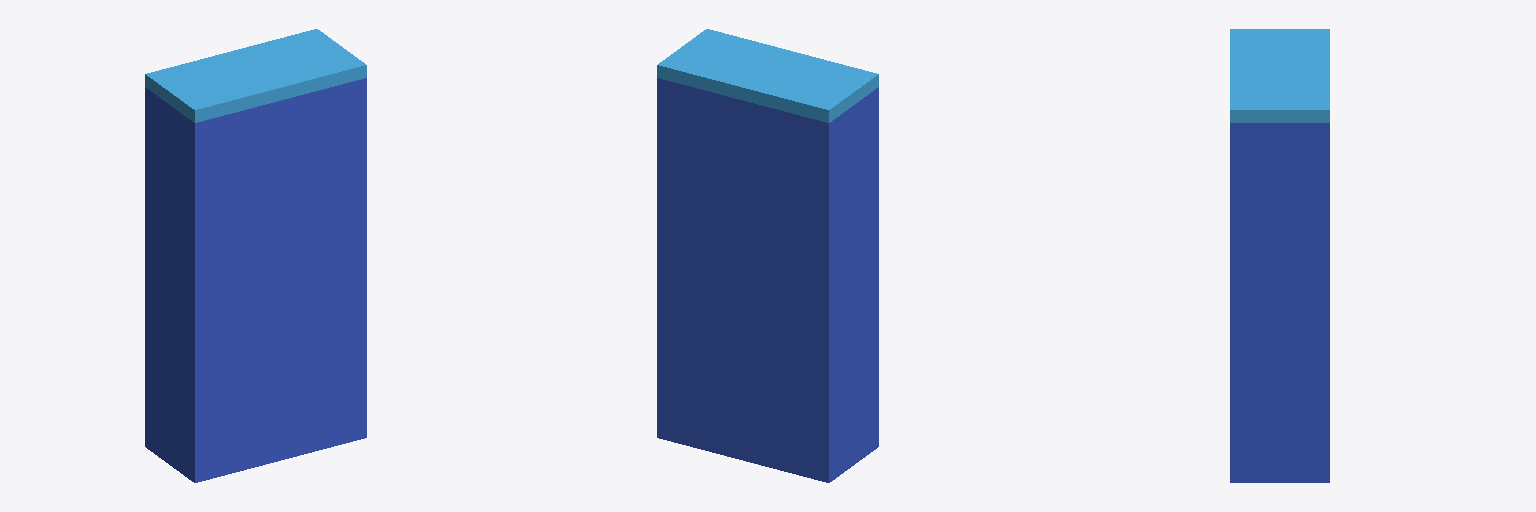
Rendered from Wallx05.obj.
3 renders of one model, left to right at view 1: azimuth 30°, elevation 25°; view 2: azimuth 150°, elevation 25°; view 3: azimuth 270°, elevation 25°, orthographic.
Parts seen in each view (by area): view 1: Wallx05; view 2: Wallx05; view 3: Wallx05.
Boxes of the visible parts, <box> form: Wallx05: <box>145,29,366,482</box>; Wallx05: <box>657,29,878,482</box>; Wallx05: <box>1230,29,1329,482</box>.
Size of the model in its own units: 0.5001 by 1.05 by 0.25.